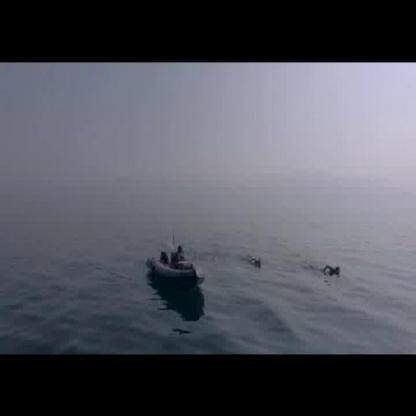Boat: (144, 244, 207, 288)
